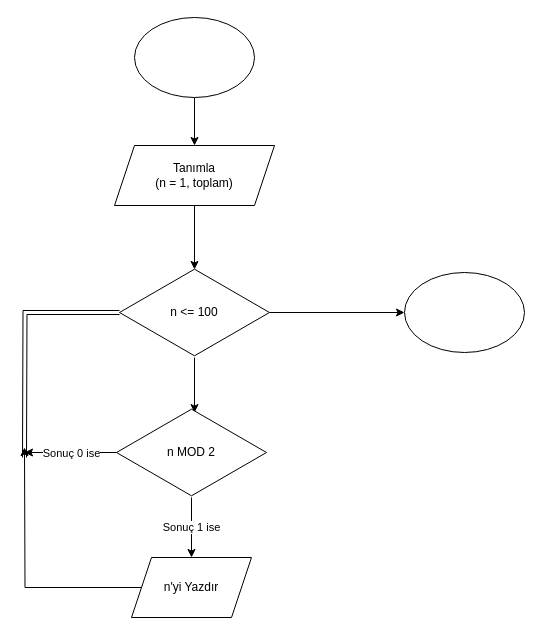
Image size: 542x635. Some labels were removed from this diagram. The box of each missing label's shape, as (x1, y1, x2, y2) in pixels:
Başla: (134, 16, 254, 98)
Bitir: (404, 272, 524, 352)
